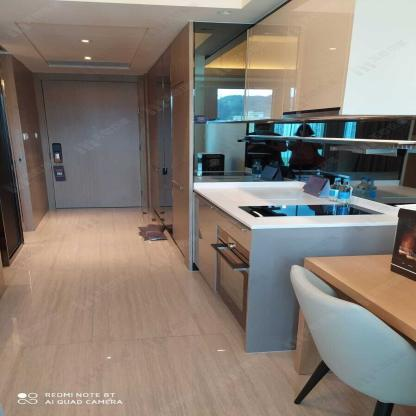Exhaust Hood: (283, 106, 343, 118)
Oven: (210, 225, 249, 332), (213, 225, 251, 324)
Stove: (238, 204, 386, 217), (241, 205, 386, 218)
